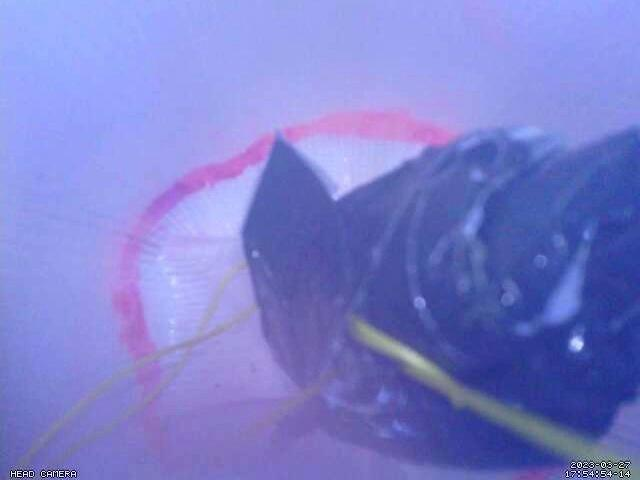head: (112, 108, 461, 480)
